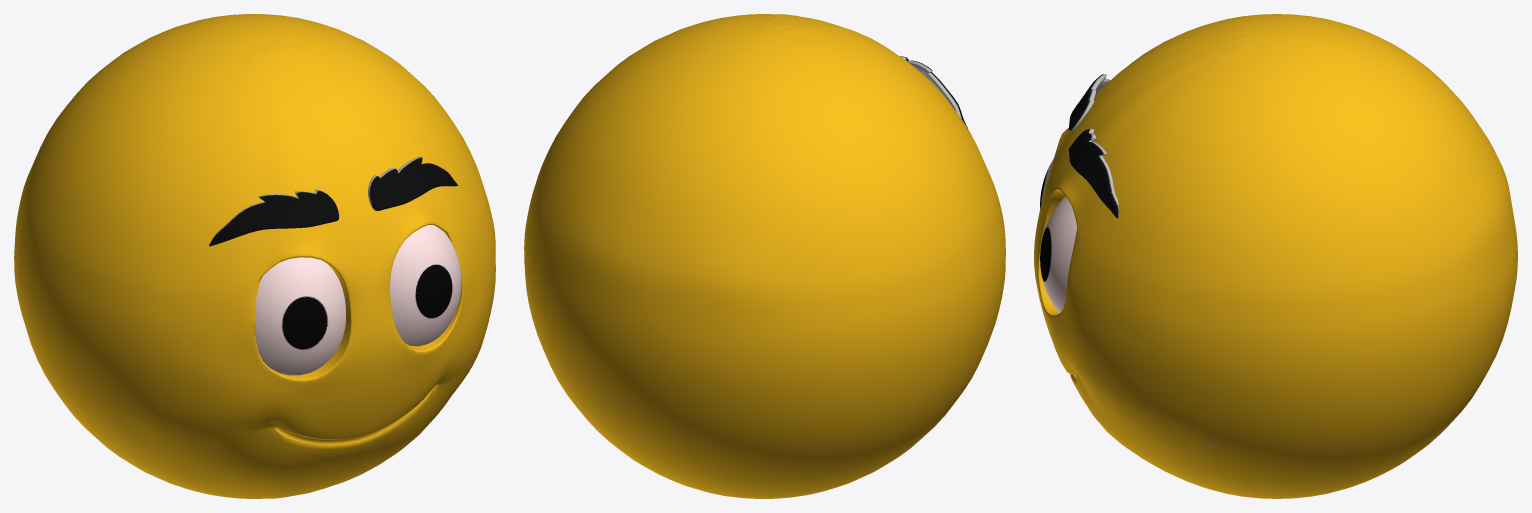
The model's file is smile_000005.obj.
3 renders of one model, left to right at view 1: azimuth 30°, elevation 25°; view 2: azimuth 150°, elevation 25°; view 3: azimuth 270°, elevation 25°, orthographic.
Visible parts, largest first — view 1: Smile_Base1:polySurface1_Untitled; view 2: Smile_Base1:polySurface1_Untitled; view 3: Smile_Base1:polySurface1_Untitled.
Boxes of the visible parts, <box> form: Smile_Base1:polySurface1_Untitled: <box>14,14,495,498</box>; Smile_Base1:polySurface1_Untitled: <box>524,14,1005,498</box>; Smile_Base1:polySurface1_Untitled: <box>1034,14,1517,498</box>.
Size of the model in its own units: 0.0425 by 0.0431 by 0.0428.
Materials: 1 (1 with a texture image).
